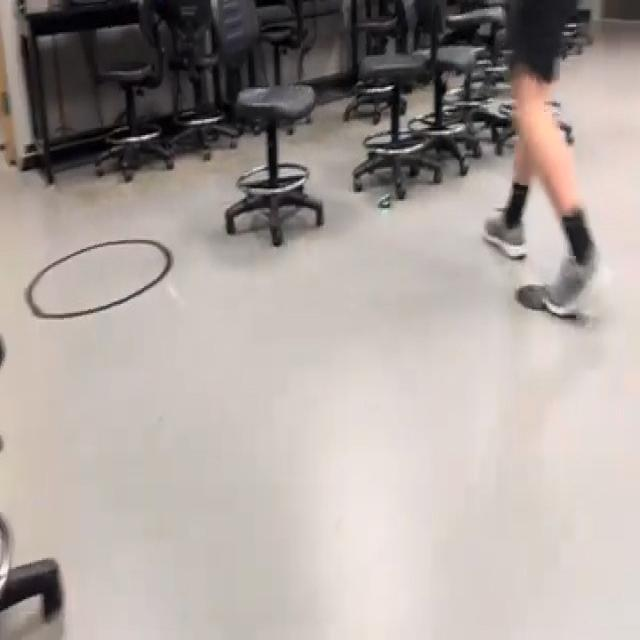drone: (372, 173, 396, 230)
